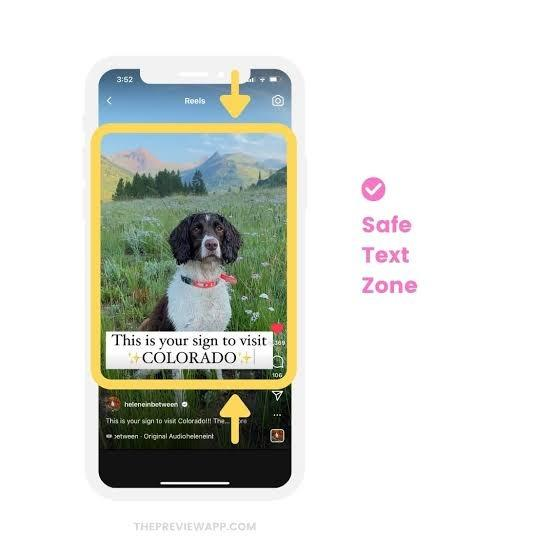adult_dog: (136, 211, 244, 333)
